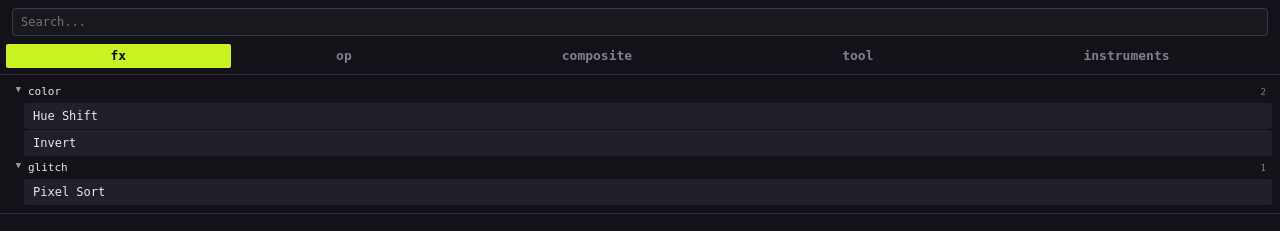
P3.2 — Global search › X clear button appears when search has content and clears on click
// Type something
Step 1. Type "pixel" into the field with test id "browser-search-input" → (640, 22), box [12,8,1268,36]
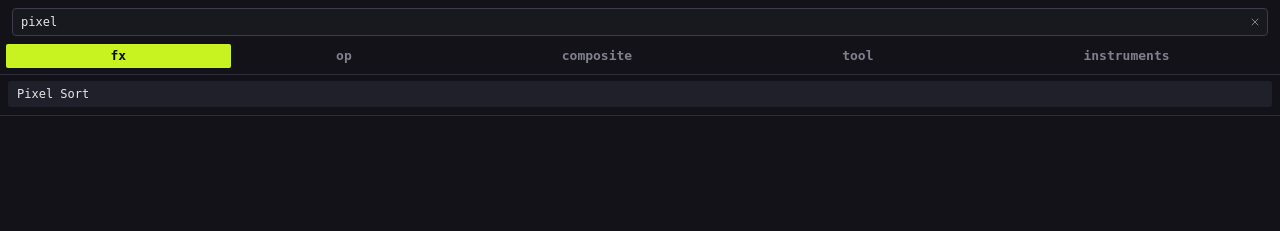
Expected: the button with test id "browser-search-clear" is shown
// Click clear
Step 2. Click the button with test id "browser-search-clear" → (1255, 22), box [1246,13,1264,31]
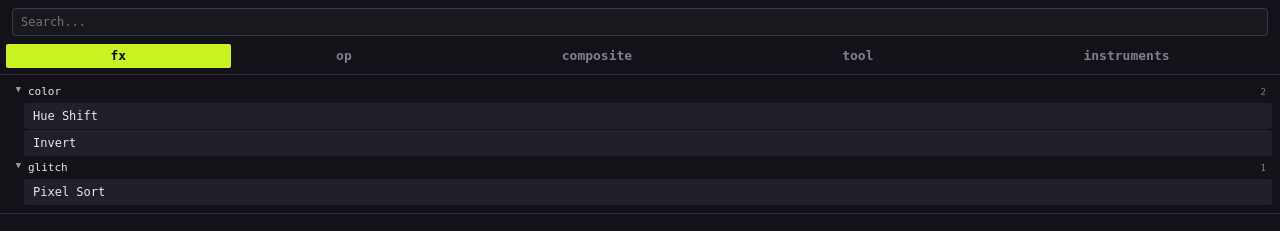
Expected: the field with test id "browser-search-input" is empty, [12,8,1268,36]
Expected: the button with test id "browser-search-clear" is gone
